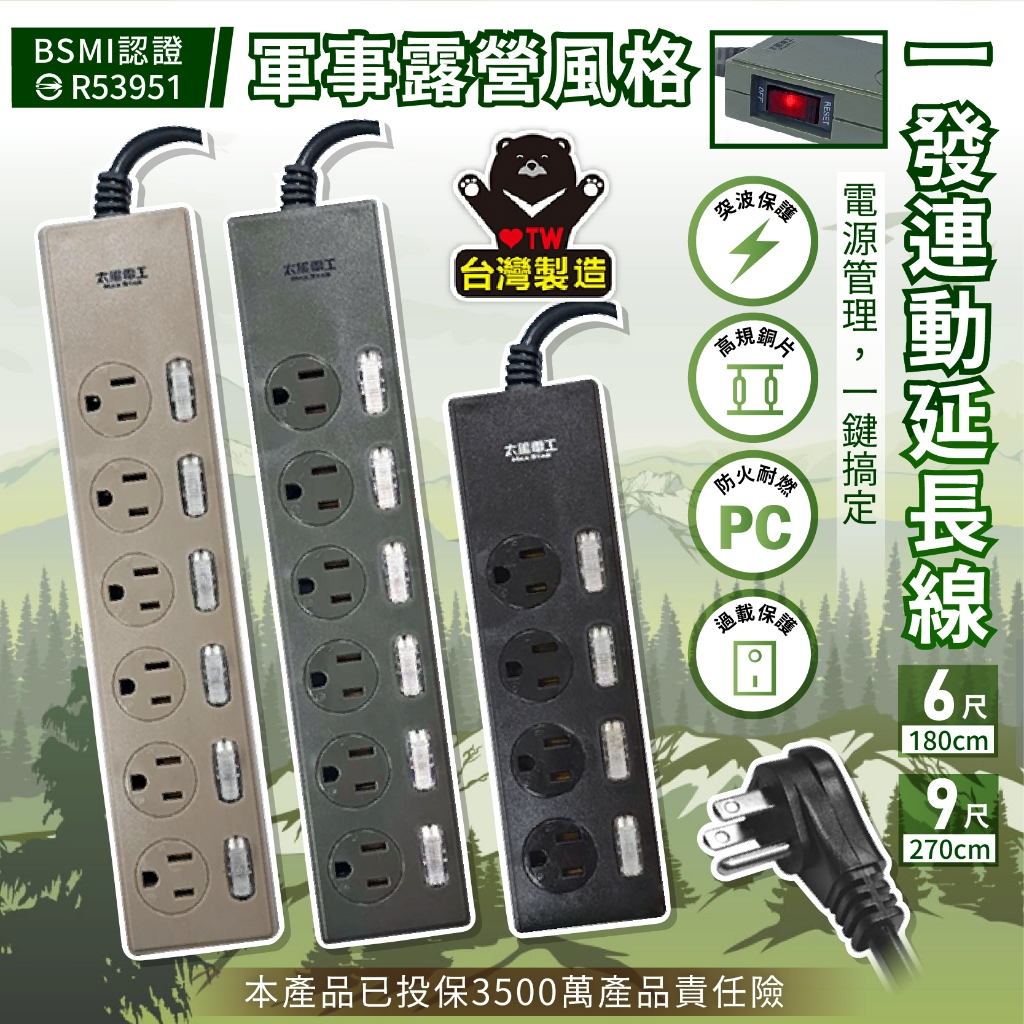socket: (35, 121, 287, 959), (228, 118, 481, 952), (445, 300, 671, 938)
